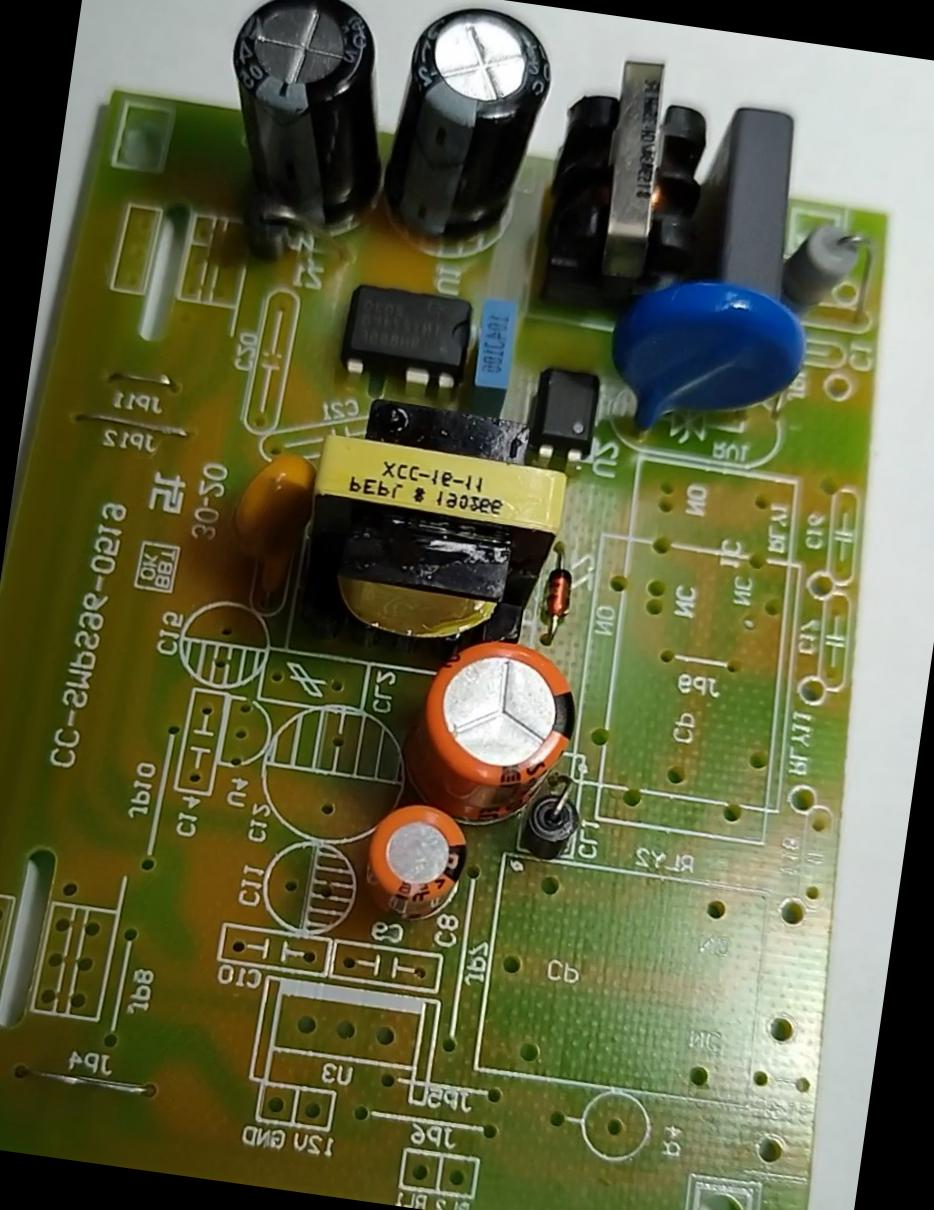Cap1: (400, 618, 592, 836)
Cap2: (353, 794, 480, 927)
Cap3: (369, 0, 568, 272)
Cap4: (210, 0, 392, 234)
MOSFET: (328, 264, 488, 411)
Mov: (601, 258, 826, 461)
Resistor: (780, 200, 876, 318)
Transformer: (281, 379, 588, 685), (518, 46, 728, 334)
